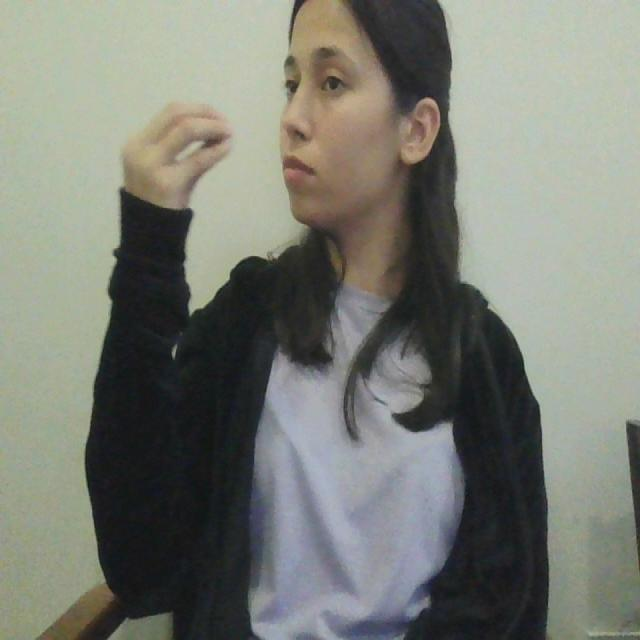Yemek: (126, 102, 319, 203)
